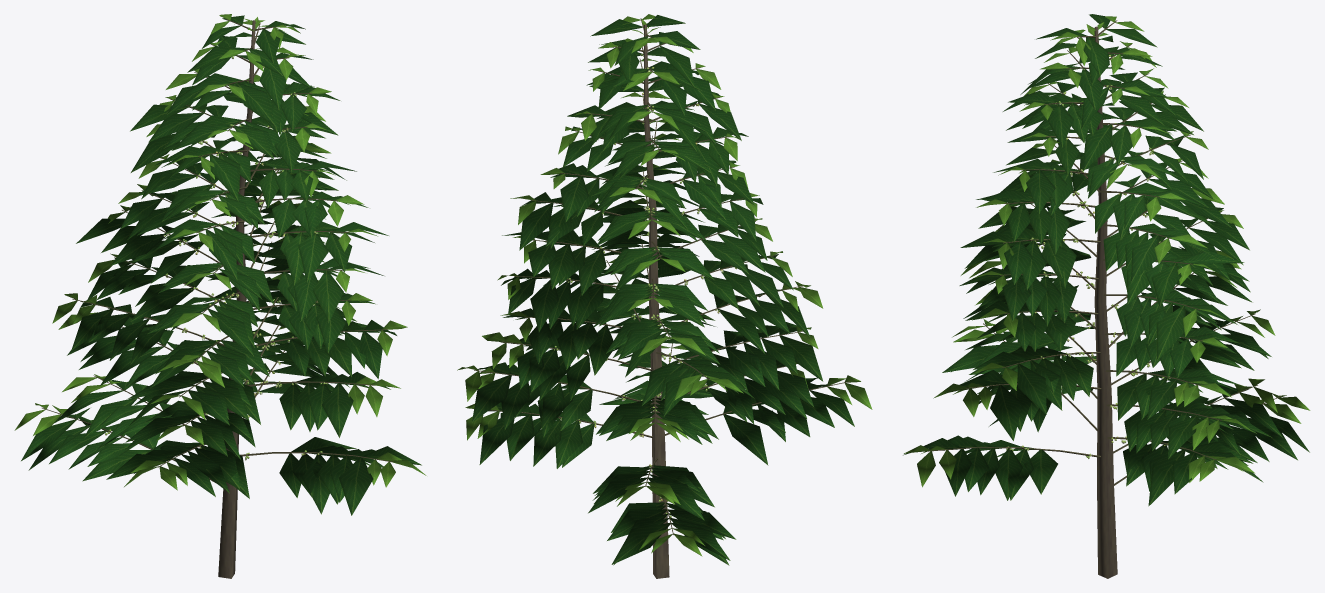
The model's file is coffea-liberica-mature-lod1.glb.
3 renders of one model, left to right at view 1: azimuth 30°, elevation 25°; view 2: azimuth 150°, elevation 25°; view 3: azimuth 270°, elevation 25°, orthographic. The views are drawn at different scales.
Parts seen in each view (by area): view 1: coffee_leaves, coffee_bark, coffee_cherries_green; view 2: coffee_leaves, coffee_bark, coffee_cherries_green; view 3: coffee_leaves, coffee_bark, coffee_cherries_green.
Part boxes in pixels (x1=…): coffee_leaves: x1=14, y1=14, x2=426, y2=515; coffee_bark: x1=42, y1=19, x2=393, y2=578; coffee_cherries_green: x1=105, y1=56, x2=327, y2=461; coffee_leaves: x1=457, y1=14, x2=872, y2=565; coffee_bark: x1=474, y1=18, x2=849, y2=578; coffee_cherries_green: x1=554, y1=54, x2=736, y2=517; coffee_leaves: x1=903, y1=14, x2=1310, y2=506; coffee_bark: x1=927, y1=20, x2=1281, y2=578; coffee_cherries_green: x1=1006, y1=55, x2=1169, y2=458.
Bounding box in the file's own units: 2.56 × 4.22 × 2.8.
Materials: 4 (2 with a texture image).
